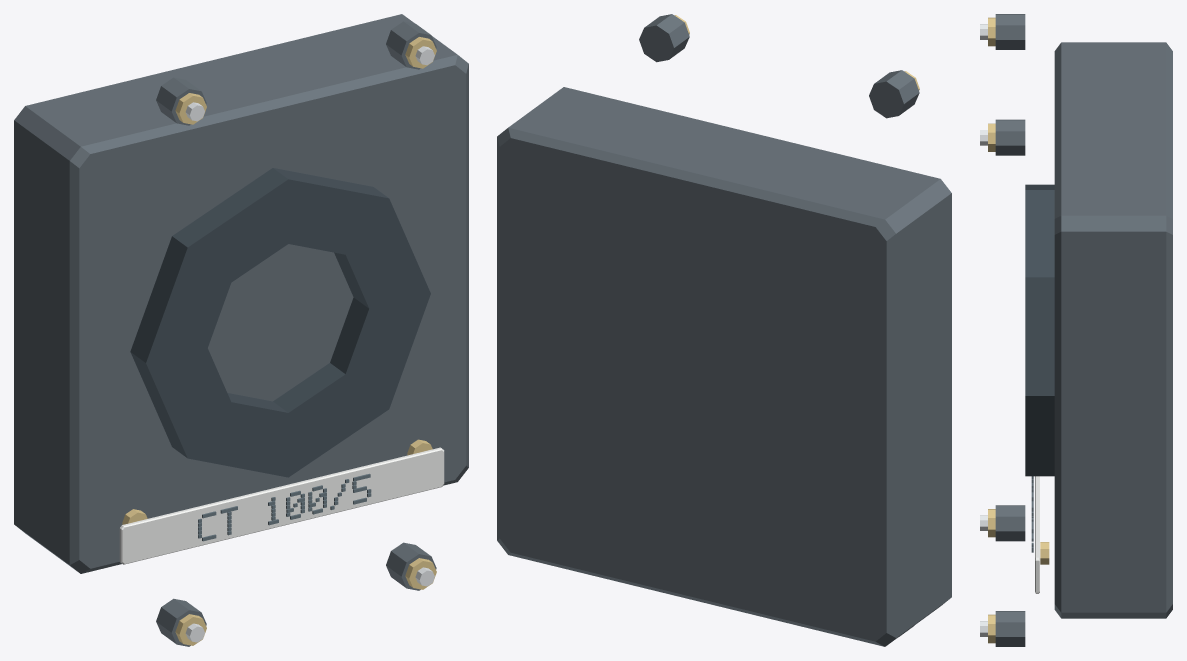
Rendered from currentTransformer.glb.
3 views of the same model, side by side, from view 1: azimuth 30°, elevation 25°; view 2: azimuth 150°, elevation 25°; view 3: azimuth 270°, elevation 25° (orthographic). The views are drawn at different scales.
Parts seen in each view (by area): view 1: currentTransformer-board; view 2: currentTransformer-board; view 3: currentTransformer-board.
Part boxes in pixels (box(x1,y1,x2,y2)): currentTransformer-board: box(14, 14, 468, 646); currentTransformer-board: box(497, 14, 951, 646); currentTransformer-board: box(980, 14, 1172, 646).
Bounding box in the file's own units: 2.17 × 2.9 × 0.9631.
